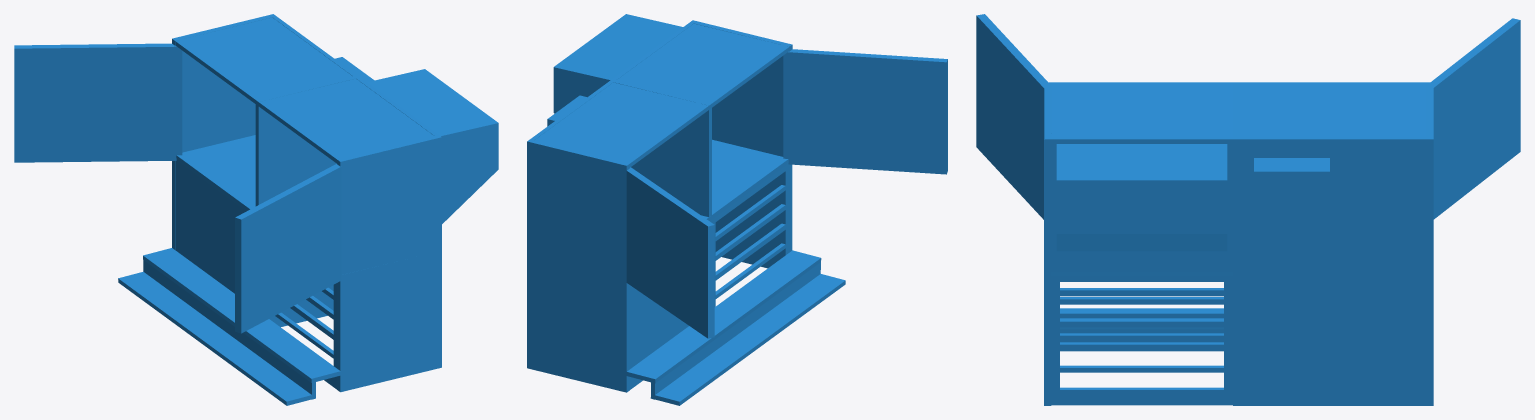
Rendered from Choque Termico.fbx.
The picture shows the model from 3 angles, left to right: view 1: azimuth 30°, elevation 25°; view 2: azimuth 150°, elevation 25°; view 3: azimuth 270°, elevation 25°; orthographic projection. The views are drawn at different scales.
Visible parts, largest first — view 1: Cube.001, Cube.008, Cube.005, Cube.009, Cubo, Cube.002, Cube.003, Cube.004, Cube.013, Cube.011, Cube.010, Cube.012 (+2 smaller); view 2: Cube.002, Cube.009, Cube.005, Cube.008, Cube.001, Cubo, Cube.011, Cube.004, Cube.013, Cube.006, Cube.010, Cube.003 (+2 smaller); view 3: Cube, Cube.005, Cubo, Cube.008, Cube.007, Cube.009, Cubo.001, Cube.006, Cube.001, Cube.004, Cube.011, Cube.012 (+1 smaller).
Boxes of the visible parts, x1,y1,x2,y2 form: Cube.001: [337, 135, 441, 392]; Cube.008: [14, 43, 182, 162]; Cube.005: [175, 17, 433, 166]; Cube.009: [235, 164, 341, 333]; Cubo: [367, 69, 498, 223]; Cube.002: [172, 14, 275, 249]; Cube.003: [175, 160, 246, 293]; Cube.004: [255, 75, 359, 327]; Cube.013: [118, 271, 315, 405]; Cube.011: [143, 248, 340, 382]; Cube.010: [176, 135, 429, 279]; Cube.012: [143, 260, 315, 399]; Cube.002: [527, 139, 629, 392]; Cube.009: [783, 49, 947, 174]; Cube.005: [535, 24, 792, 167]; Cube.008: [626, 167, 714, 338]; Cube.001: [690, 20, 792, 268]; Cubo: [553, 14, 682, 113]; Cube.011: [626, 250, 821, 383]; Cube.004: [609, 79, 711, 222]; Cube.013: [653, 274, 845, 405]; Cube.006: [712, 164, 789, 306]; Cube.010: [701, 139, 788, 220]; Cube.003: [630, 285, 688, 389]; Cube: [1051, 137, 1433, 405]; Cube.005: [1051, 82, 1426, 136]; Cubo: [1056, 144, 1227, 251]; Cube.008: [1431, 18, 1520, 219]; Cube.007: [1051, 275, 1232, 405]; Cube.009: [976, 14, 1047, 219]; Cubo.001: [1254, 158, 1329, 279]; Cube.006: [1060, 288, 1223, 351]; Cube.001: [1044, 82, 1051, 405]; Cube.004: [1233, 82, 1240, 405]; Cube.011: [1060, 308, 1223, 329]; Cube.012: [1060, 329, 1223, 333].
Size of the model in its own units: 266 by 199 by 367.
